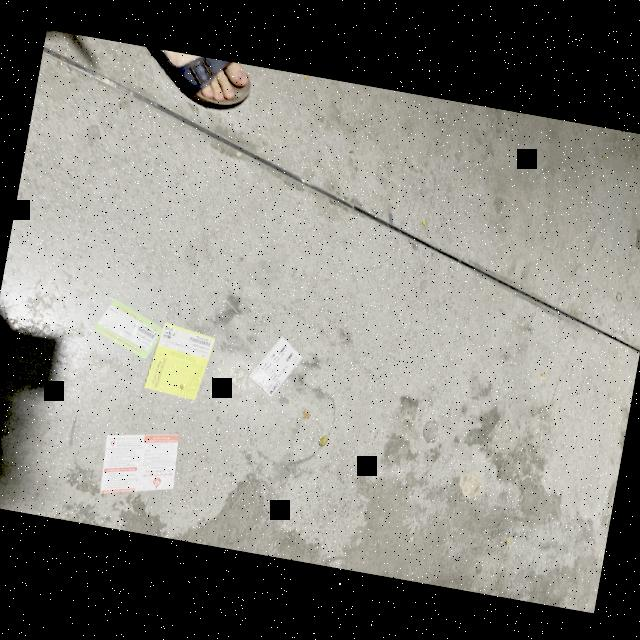scrap_paper: (88, 419, 188, 514), (146, 312, 224, 410), (88, 284, 166, 366), (247, 327, 304, 405)
